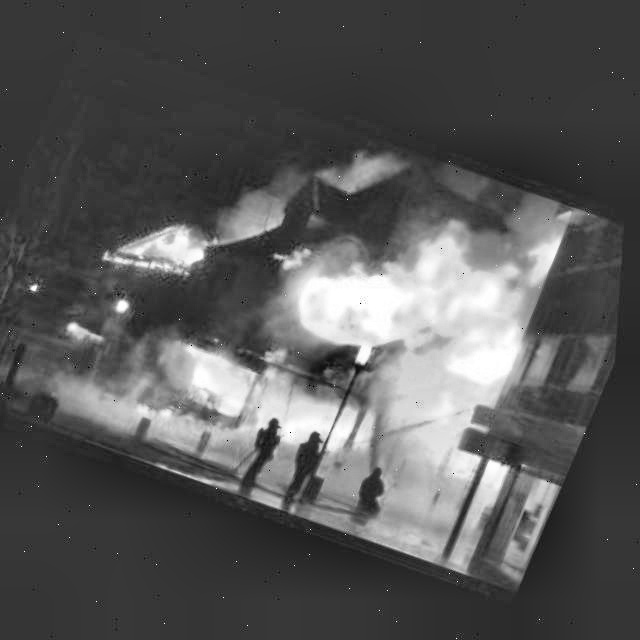Fire: (80, 110, 587, 520)
